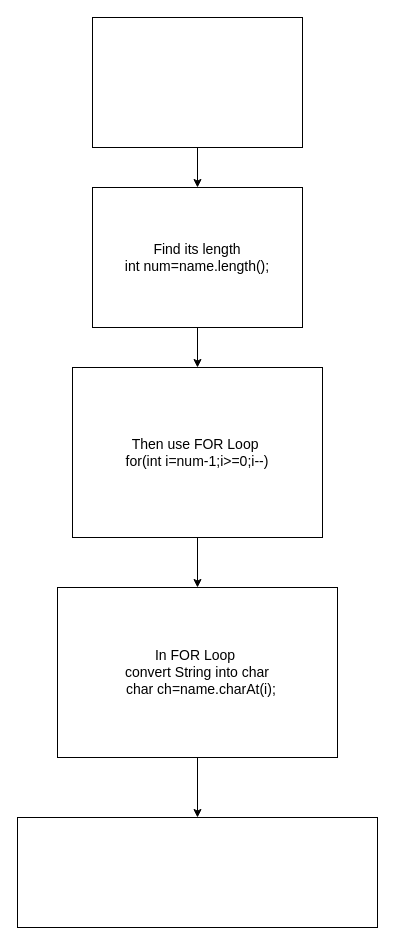
The diagram is 395 pixels wide and 945 high, and some of its shapes have lost their labels. The shapes that lost their labels are listed below. From the top down, each one's centre as x and y in pixels, then its label:
point (197, 82): We have one string String name="book";
point (197, 872): Print the character one by one System.out.println(ch);
